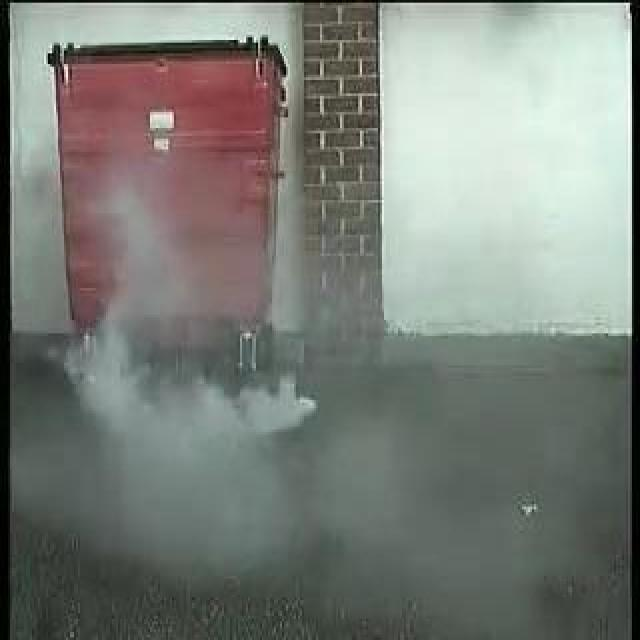Smoke: (77, 338, 317, 442)
